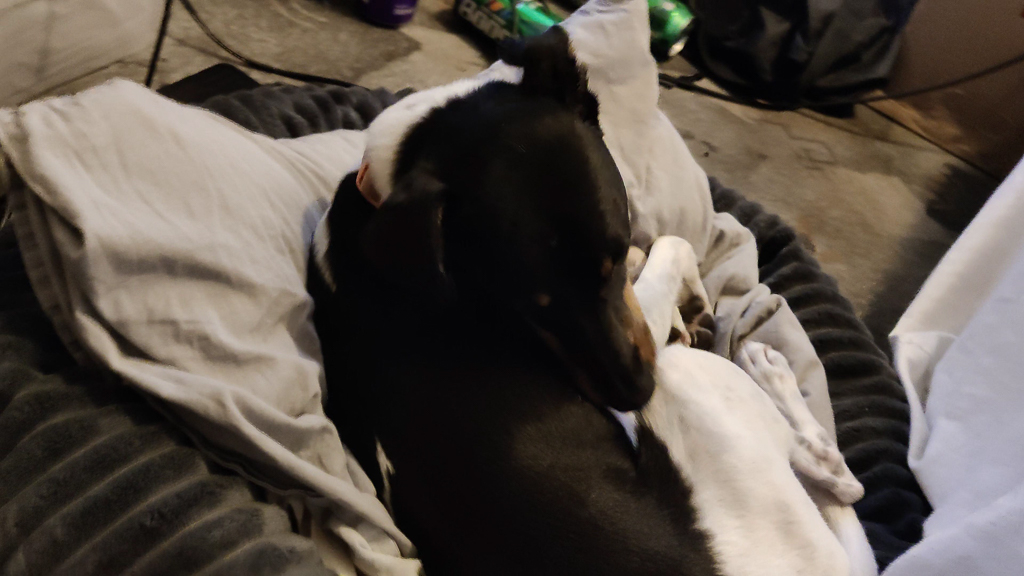Dog: (279, 11, 905, 576)
